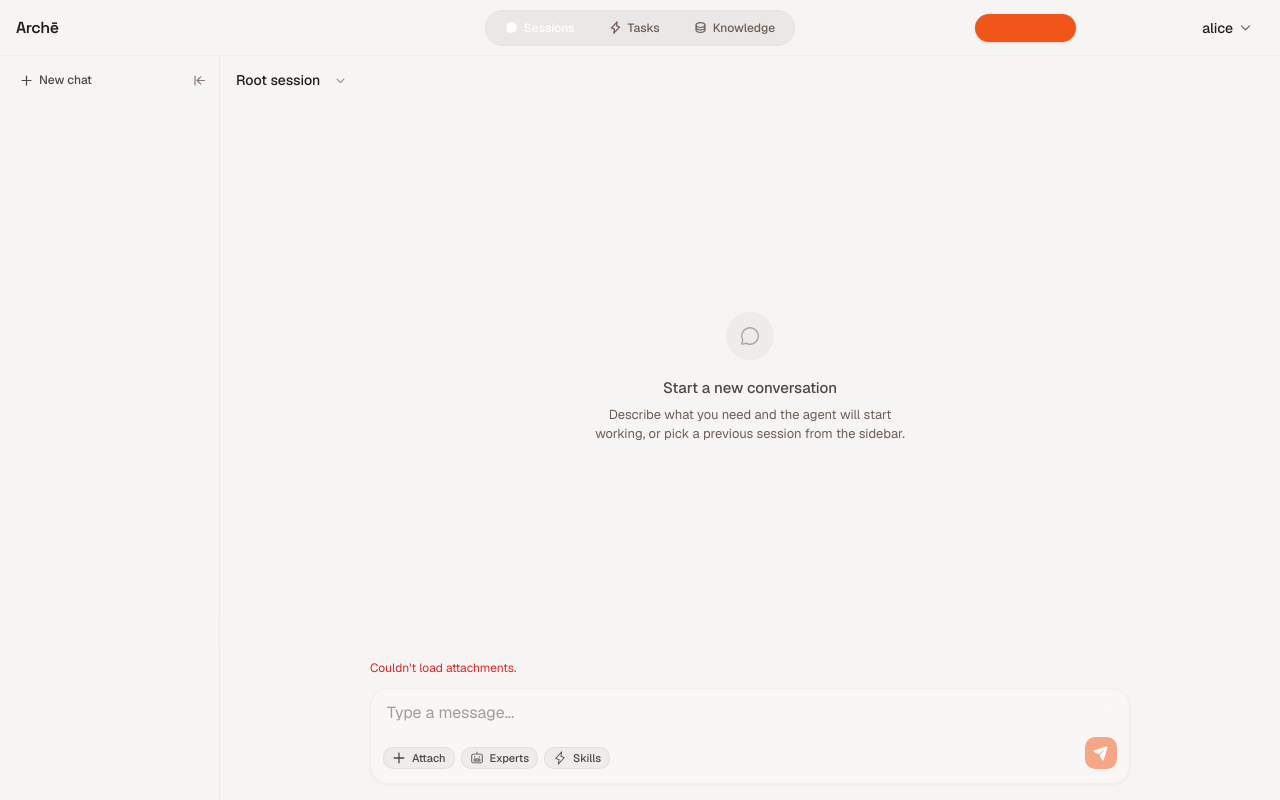
Test: WorkspaceShell › shows global mode navigation and account menu status
The image size is (1280, 800).
Expected: the button "Sessions" is shown, [489,14,591,42]
Expected: the button "Knowledge" is shown, [678,14,791,42]
Press the mouse on the button with aria-label "Workspace account menu" at coordinates (1227, 28), box [1190,10,1264,46]
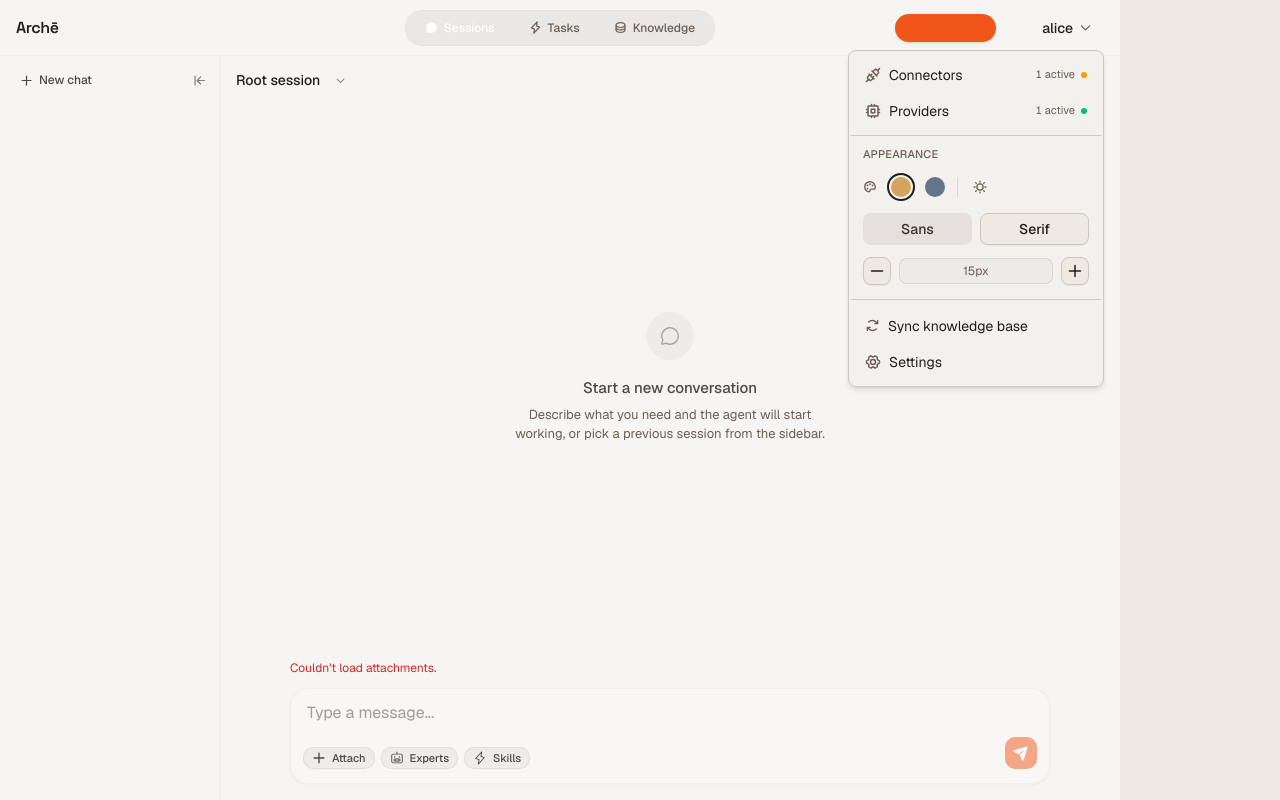
Expected: the text "Settings" is shown, [889,352,942,372]
Expected: the text "1 active" is shown 2 times, [1036,67,1075,83]; [1036,103,1075,119]
Expected: the text "Appearance" is shown, [863,147,938,161]
